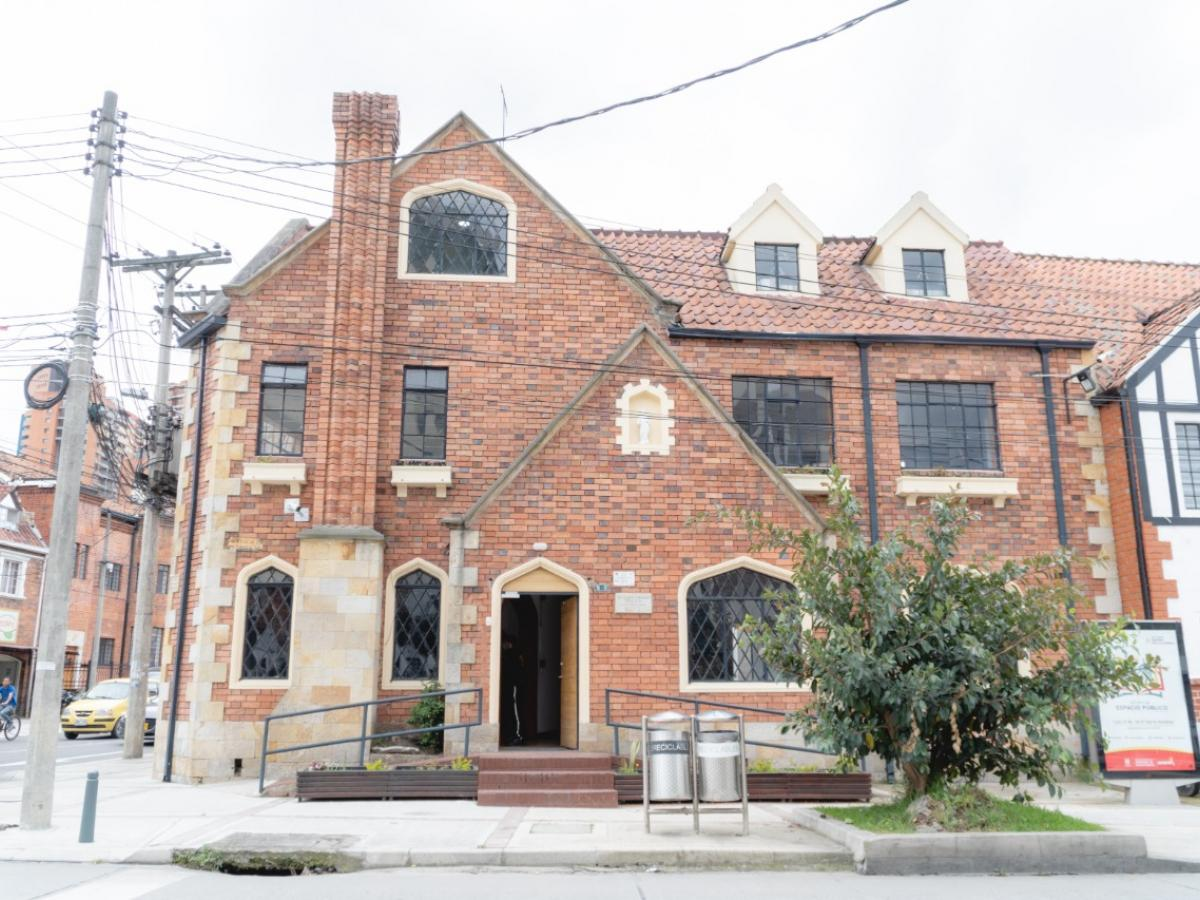House: (135, 72, 1185, 797)
